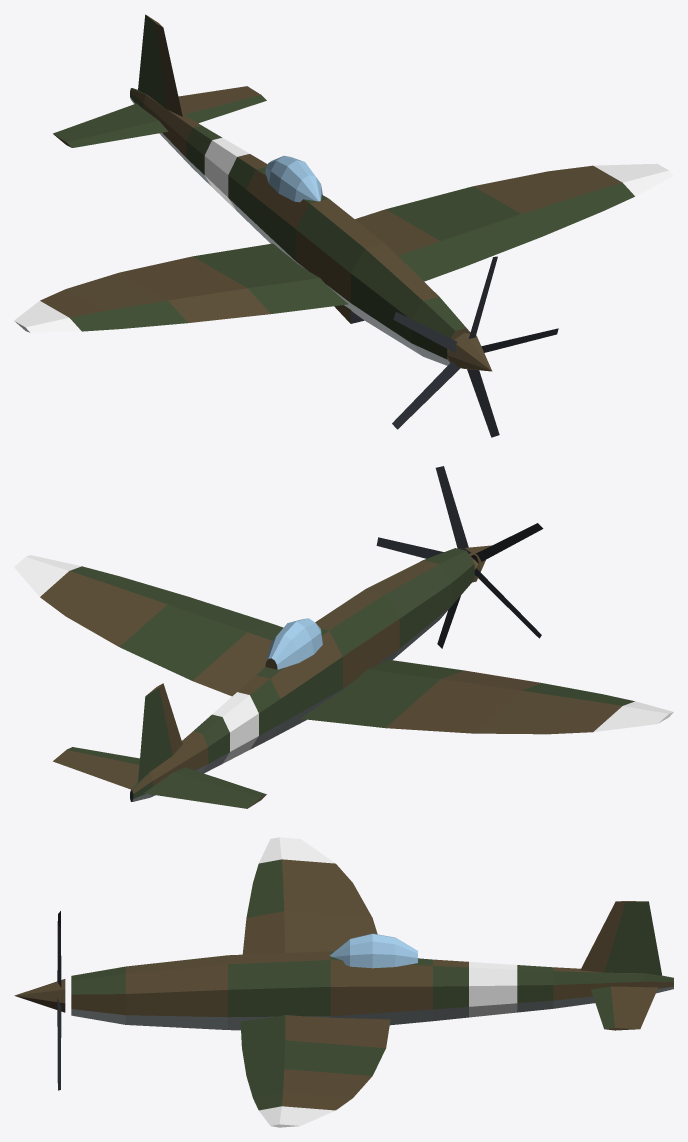
File: spitfire_mk14.glb
The picture shows the model from 3 angles, top to bottom: view 1: azimuth 30°, elevation 25°; view 2: azimuth 150°, elevation 25°; view 3: azimuth 270°, elevation 25°; orthographic projection. The views are drawn at different scales.
Visible parts, largest first — view 1: body, prop; view 2: body, prop; view 3: body, prop.
Boxes of the visible parts, box(x1,y1,x2,y2) form: body: box(14, 14, 673, 365); prop: box(392, 256, 558, 437); body: box(14, 548, 673, 808); prop: box(376, 466, 543, 648); body: box(71, 837, 673, 1127); prop: box(14, 911, 65, 1090).
Size of the model in its own units: 11.23 by 3.24 by 10.91.
